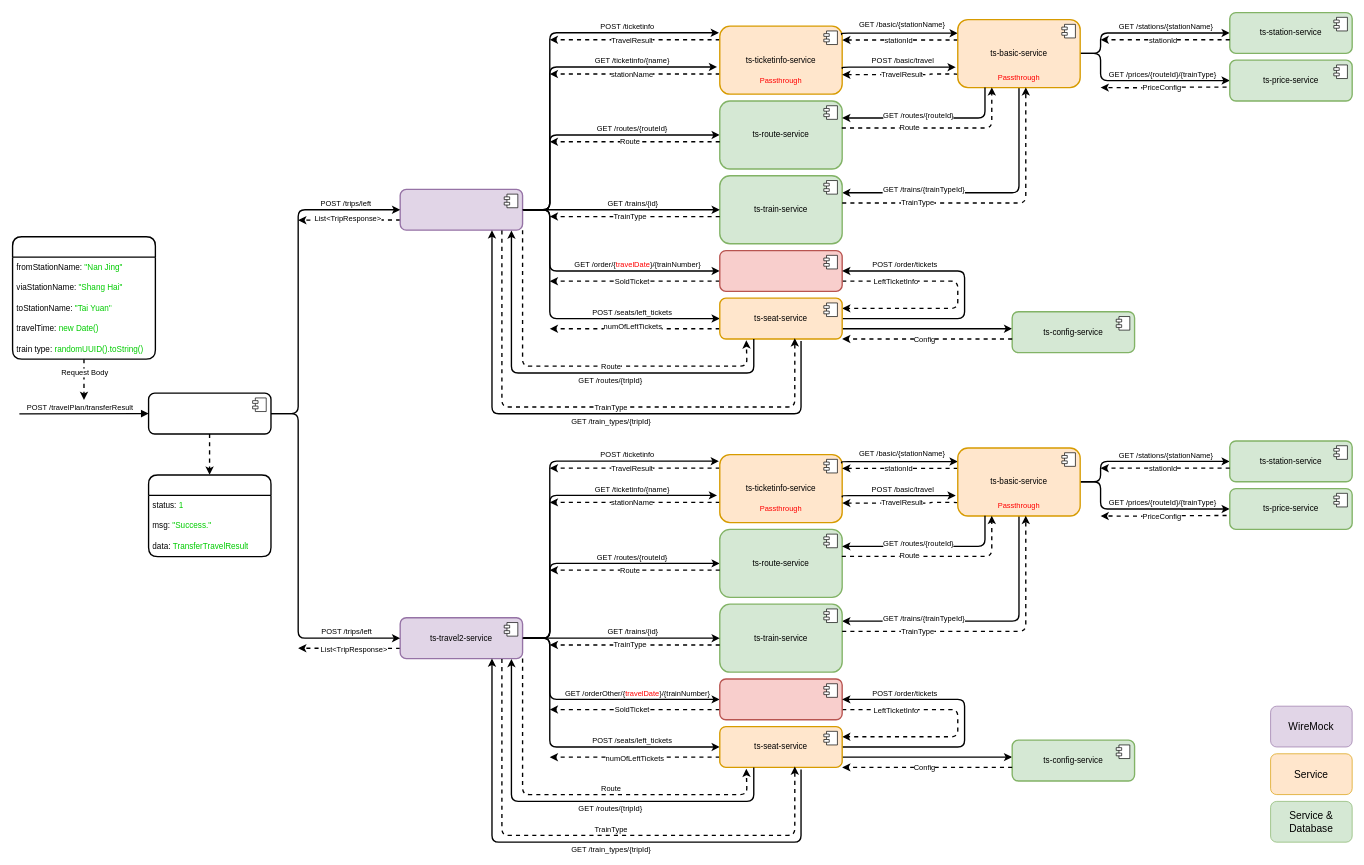
This 1364x865 diagram has some shape labels left out. Each missing label, with the box of its shape:
Response: (148, 474, 271, 557)
TransferTravelInfo: (12, 236, 156, 360)
ts-order-other-service: (719, 678, 843, 720)
ts-order-service: (719, 250, 843, 292)
ts-travel-plan-service: (148, 392, 271, 434)
ts-travel-service: (399, 188, 523, 231)
